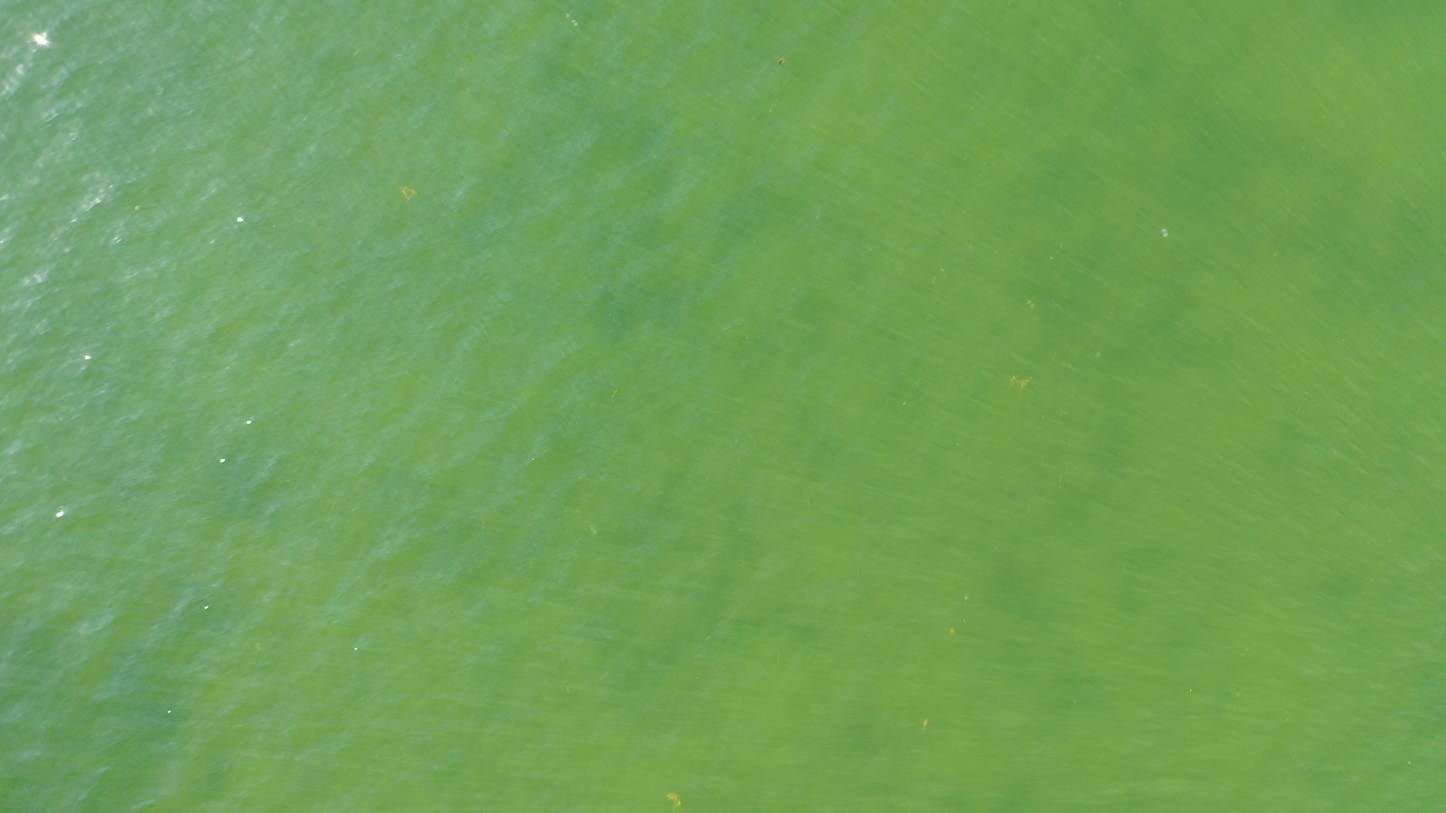meduse: (1160, 228, 1168, 238), (571, 20, 581, 27), (589, 526, 598, 533)
